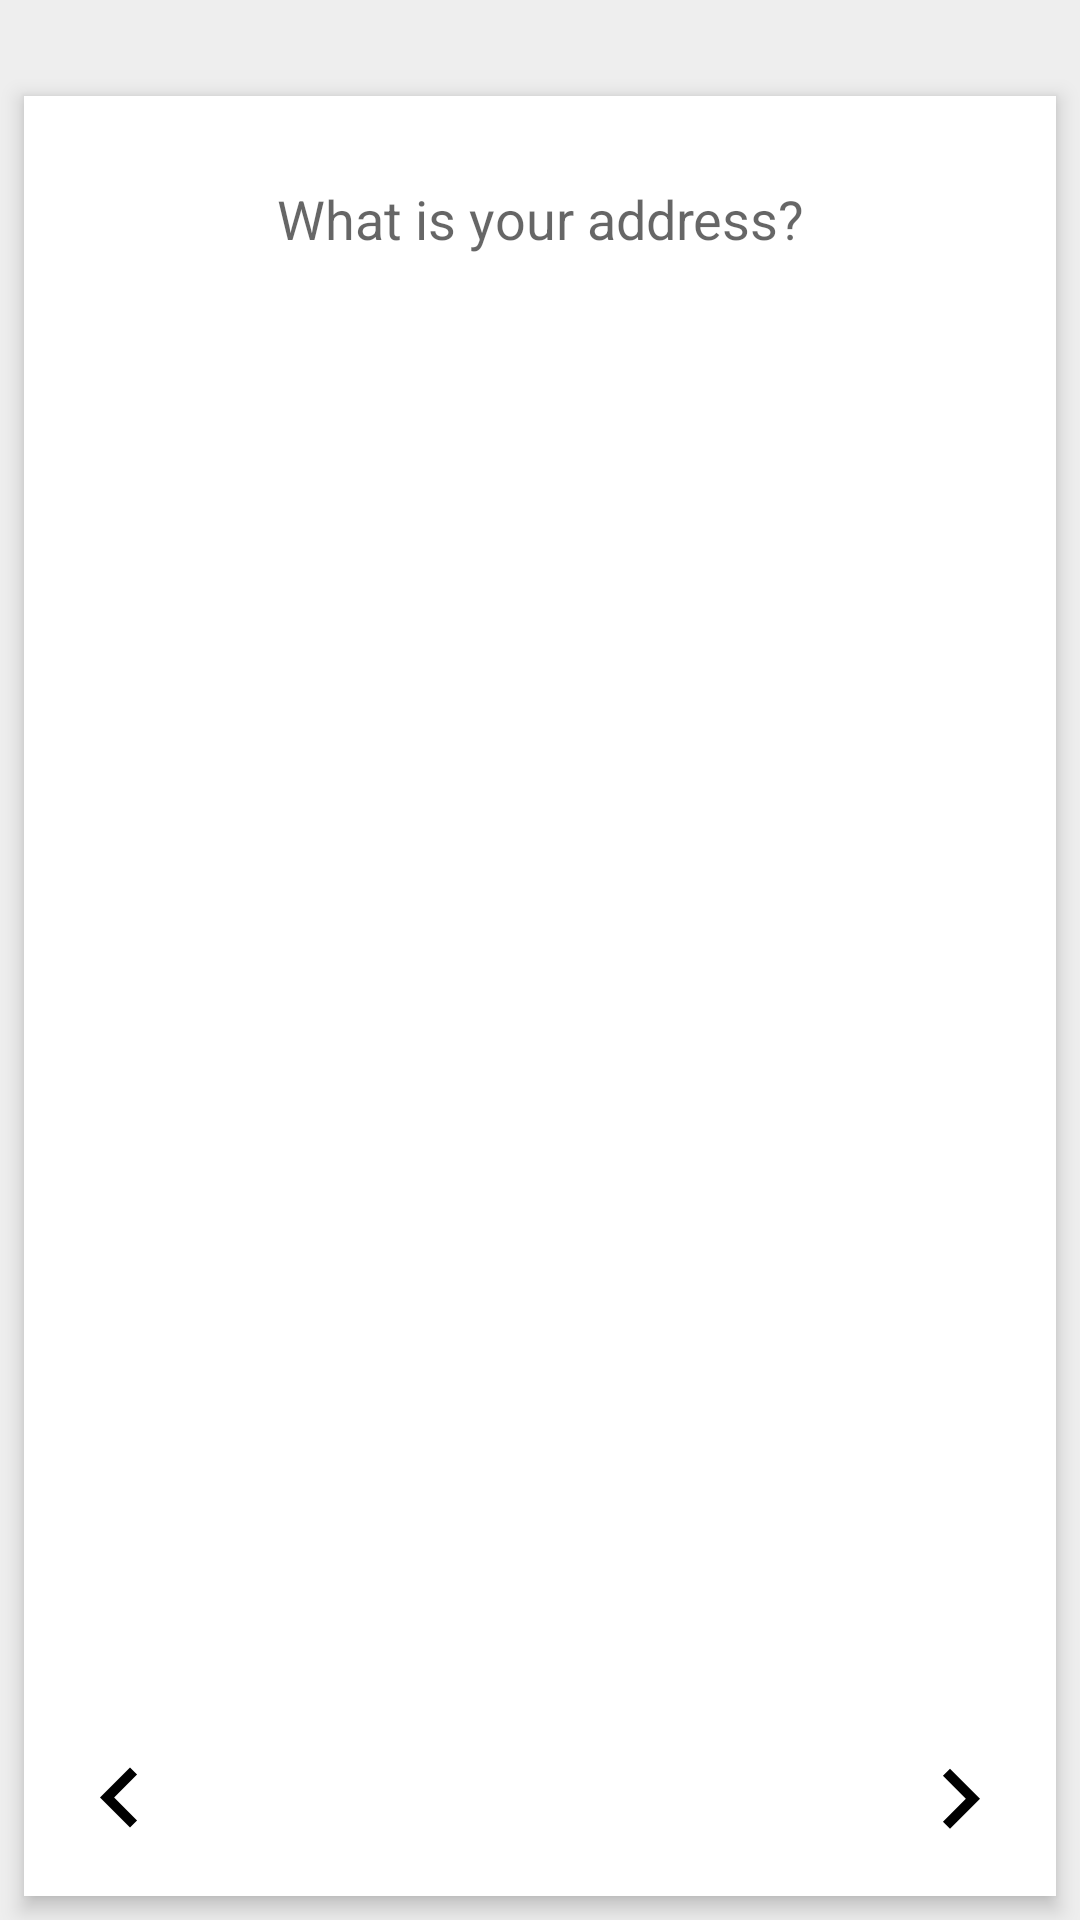

Icons on this 1080px x 1920px Android screen, each with the point to tap as [x,y]:
keyboard arrow left: [118,1797]
keyboard arrow right: [961,1799]
